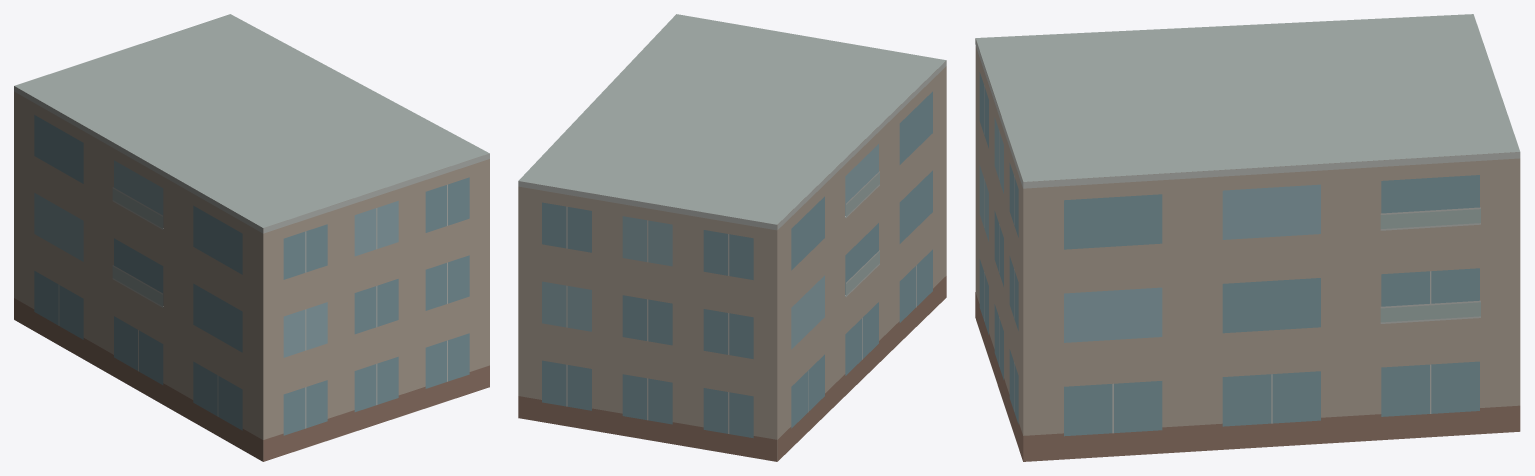
File: survey-upis-32826354.glb
The picture shows the model from 3 angles, left to right: view 1: azimuth 30°, elevation 25°; view 2: azimuth 150°, elevation 25°; view 3: azimuth 270°, elevation 25°; orthographic projection. The views are drawn at different scales.
Parts seen in each view (by area): view 1: survey-upis-32826354.tmp; view 2: survey-upis-32826354.tmp; view 3: survey-upis-32826354.tmp.
Boxes of the visible parts, <box> form: survey-upis-32826354.tmp: <box>14,14,489,461</box>; survey-upis-32826354.tmp: <box>518,14,946,461</box>; survey-upis-32826354.tmp: <box>975,14,1520,461</box>.
Size of the model in its own units: 13.27 by 10.3 by 18.18.
